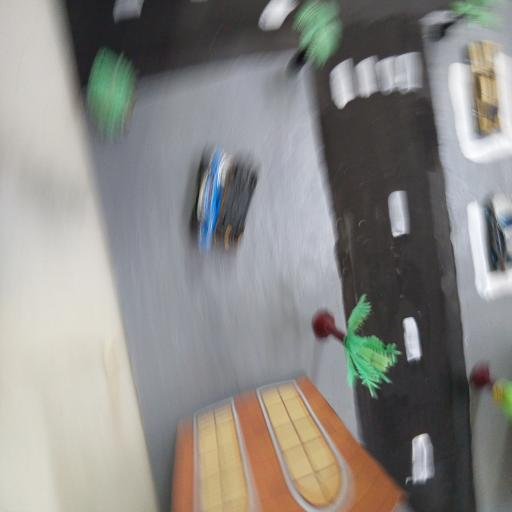car crash: (191, 145, 260, 252)
